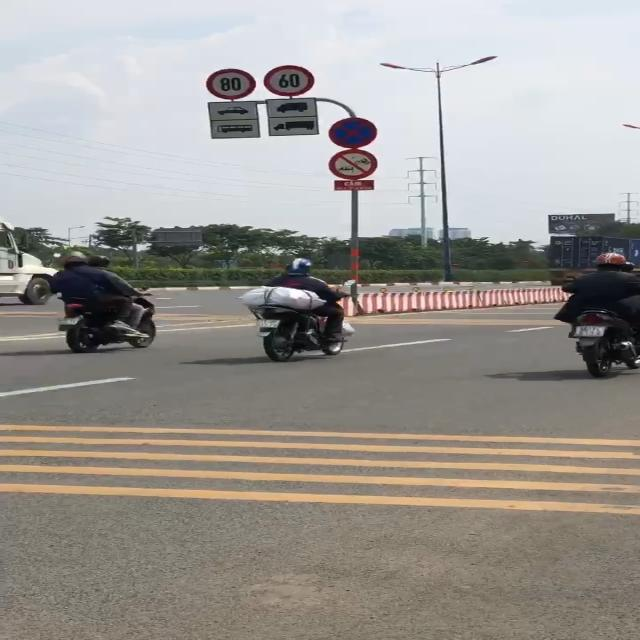Bien bao cam dung xe va do xe: (327, 114, 384, 149)
Bien bao toc do toi da cho phep: (259, 62, 322, 98), (202, 65, 258, 99)
